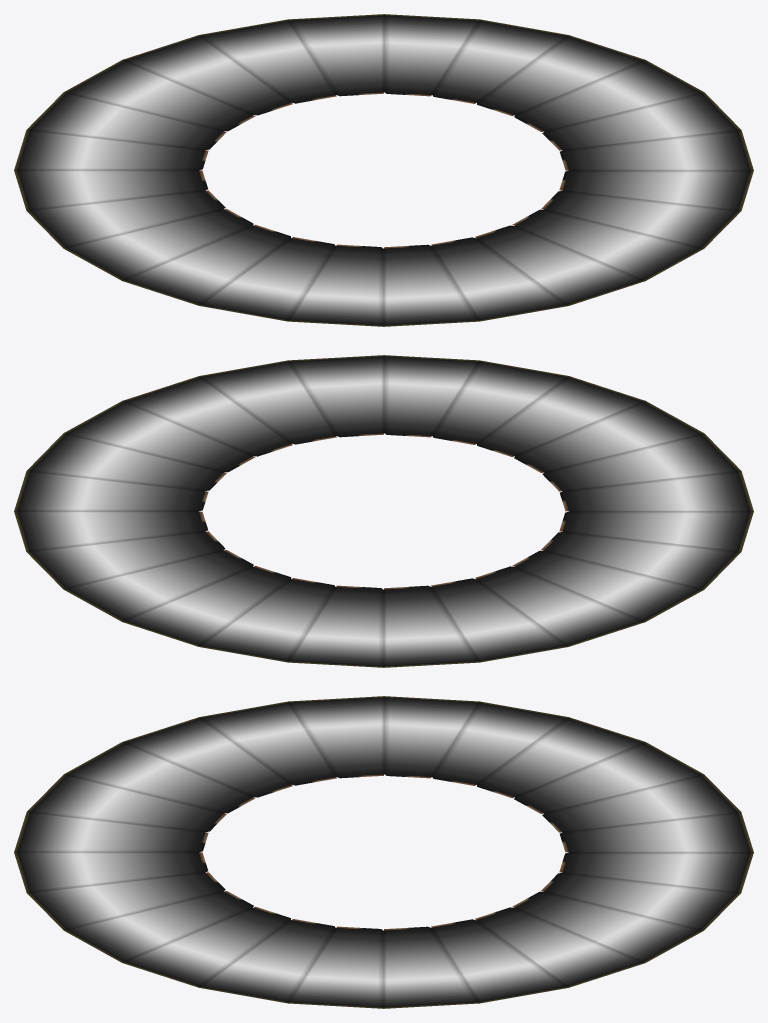
The picture shows the model from 3 angles, top to bottom: view 1: azimuth 30°, elevation 25°; view 2: azimuth 150°, elevation 25°; view 3: azimuth 270°, elevation 25°; orthographic projection.
Parts seen in each view (by area): view 1: T1L2M007_30; view 2: T1L2M007_30; view 3: T1L2M007_30.
Part boxes in pixels (x1,y1,x2,y2): T1L2M007_30: (14,14,753,326); T1L2M007_30: (14,355,753,667); T1L2M007_30: (14,696,753,1008).
Size of the model in its own units: 3.43 by 0 by 3.43.
Materials: 1 (1 with a texture image).
